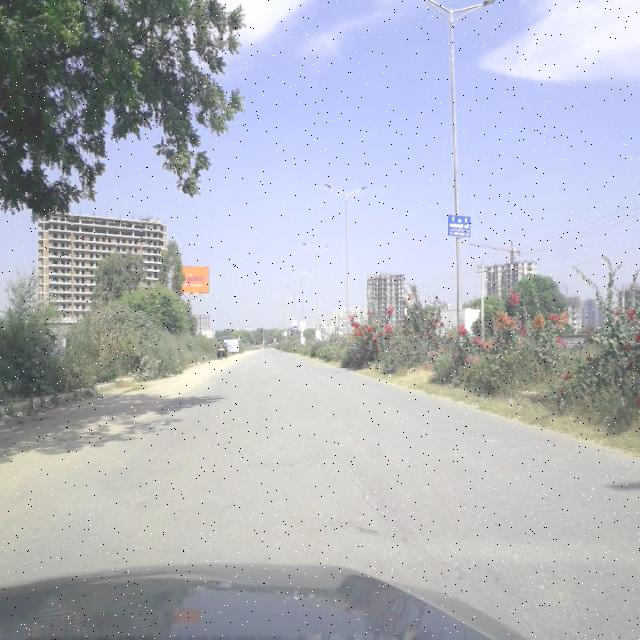D00: (348, 464, 396, 527)
